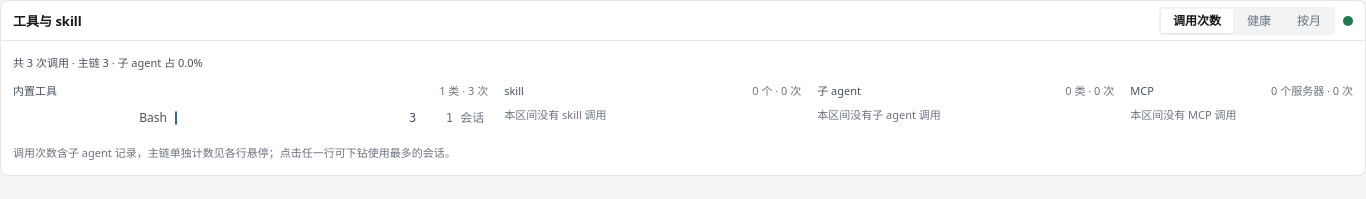
Scenario: ToolCensusPanel 按月视图（G6） › 正常：切「按月」出表，行按总量降序、合计列与趋势列齐全，caption 在场
This screenshot has width=1366, height=199.
What coordinates should you click on to do the following:
click the tab "按月"
I would click on:
 (1309, 20)
Its box is [1285,8,1333,32].
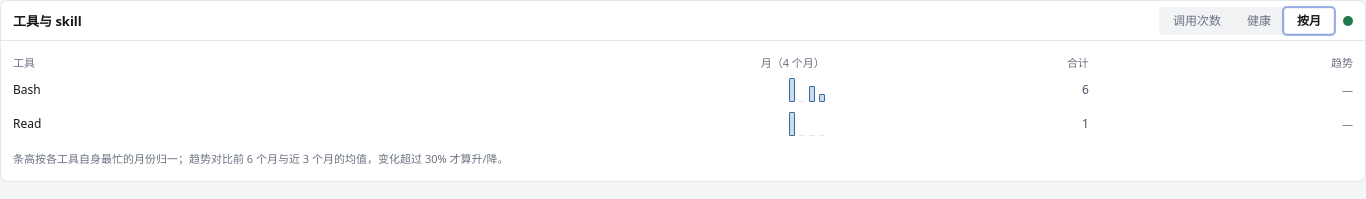
Now the number of rows is 3, box [13,53,1353,73]; [13,73,1353,107]; [13,107,1353,141]
Now the column heading "Read" is shown, box [13,107,233,141]
Now the text "6" is shown, box [825,73,1089,107]
